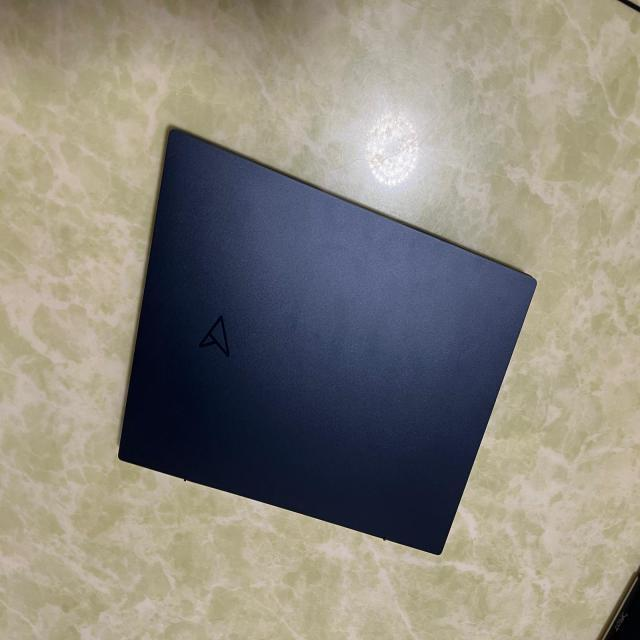laptop: (116, 123, 537, 556)
